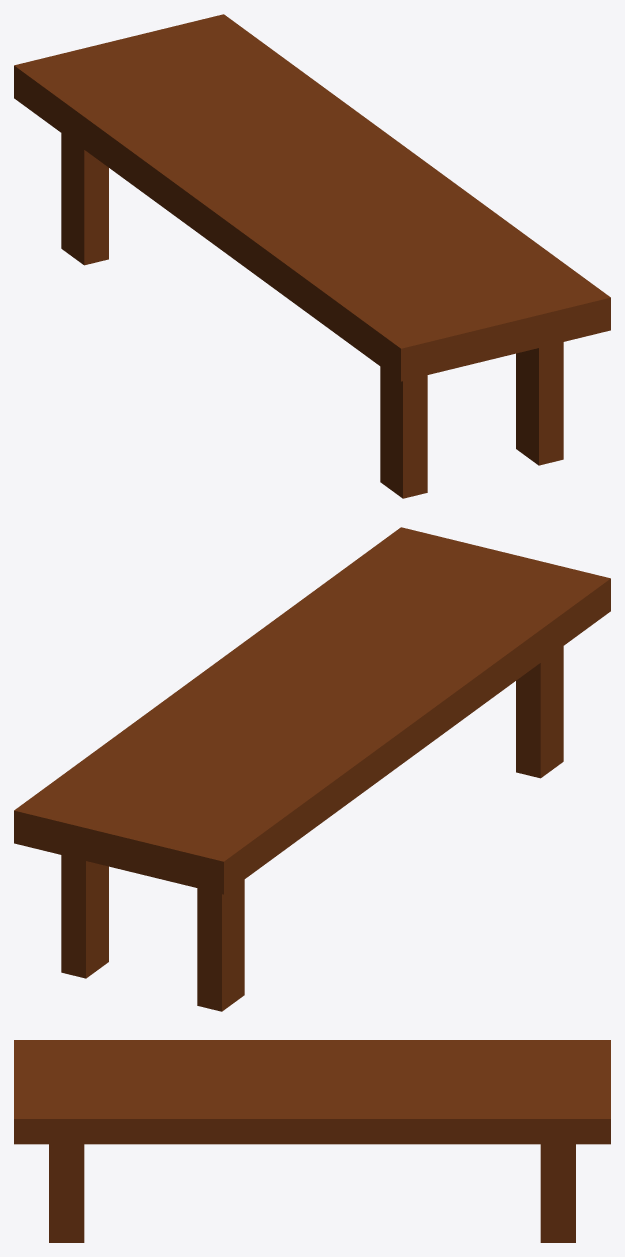
File: Table.fbx
3 renders of one model, top to bottom at view 1: azimuth 30°, elevation 25°; view 2: azimuth 150°, elevation 25°; view 3: azimuth 270°, elevation 25°, orthographic. The views are drawn at different scales.
Visible parts, largest first — view 1: Cube; view 2: Cube; view 3: Cube.
Boxes of the visible parts, x1,y1,x2,y2 form: Cube: [14, 14, 610, 498]; Cube: [14, 527, 610, 1011]; Cube: [14, 1040, 610, 1242].
Bounding box in the file's own units: 200 × 157 × 639.
